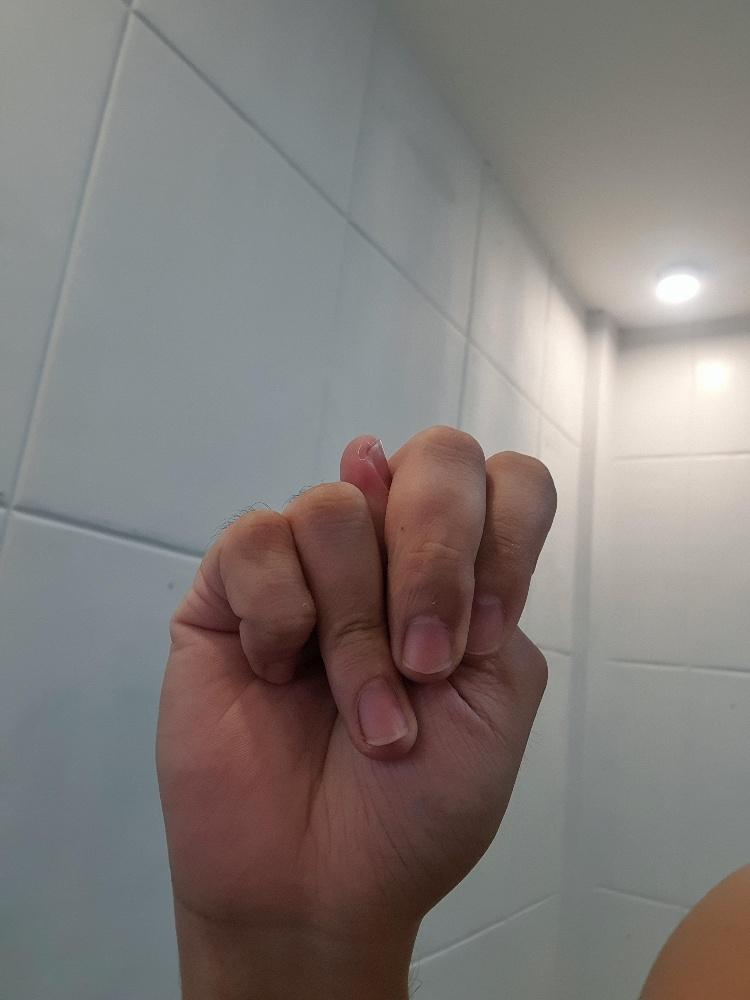n: (151, 420, 562, 943)
